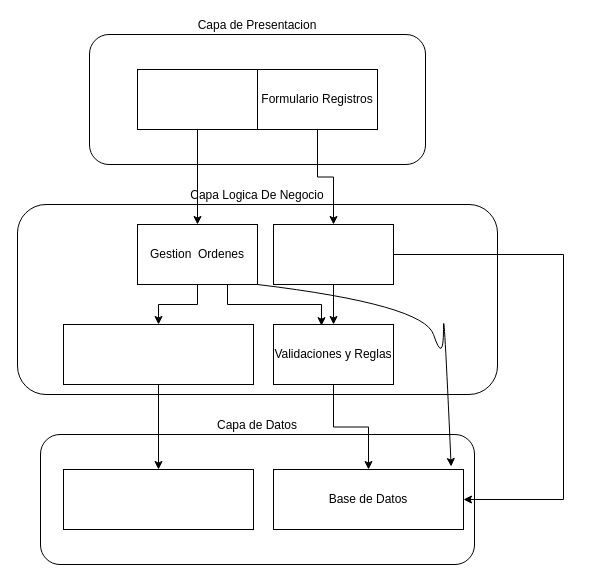
Some shapes in this 589 by 582 pixel diagram are drawn without their labels. Each missing label, with the centre of its shape:
"Almacen de Archivos" goes at (x=158, y=499).
"Gestion Usuarios" goes at (x=333, y=254).
"Sistema de Notificaciones" goes at (x=158, y=354).
"Tablero Kanban" goes at (x=197, y=99).
